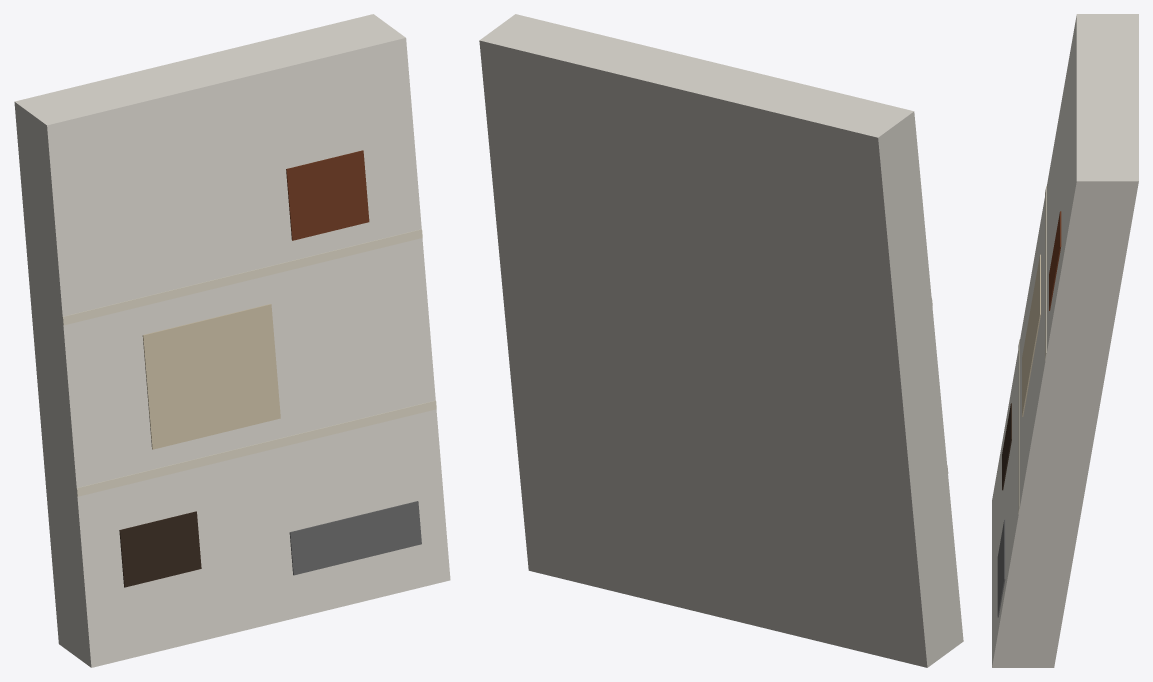
The model's file is mattress_dumped.glb.
3 renders of one model, left to right at view 1: azimuth 30°, elevation 25°; view 2: azimuth 150°, elevation 25°; view 3: azimuth 270°, elevation 25°, orthographic. The views are drawn at different scales.
Parts seen in each view (by area): view 1: mattress_dumped; view 2: mattress_dumped; view 3: mattress_dumped.
Boxes of the visible parts, x1,y1,x2,y2 form: mattress_dumped: (14, 14, 450, 667); mattress_dumped: (479, 14, 963, 667); mattress_dumped: (992, 14, 1138, 667).
Size of the model in its own units: 1.4 by 1.9 by 0.52.
1 material, 1 textured.
